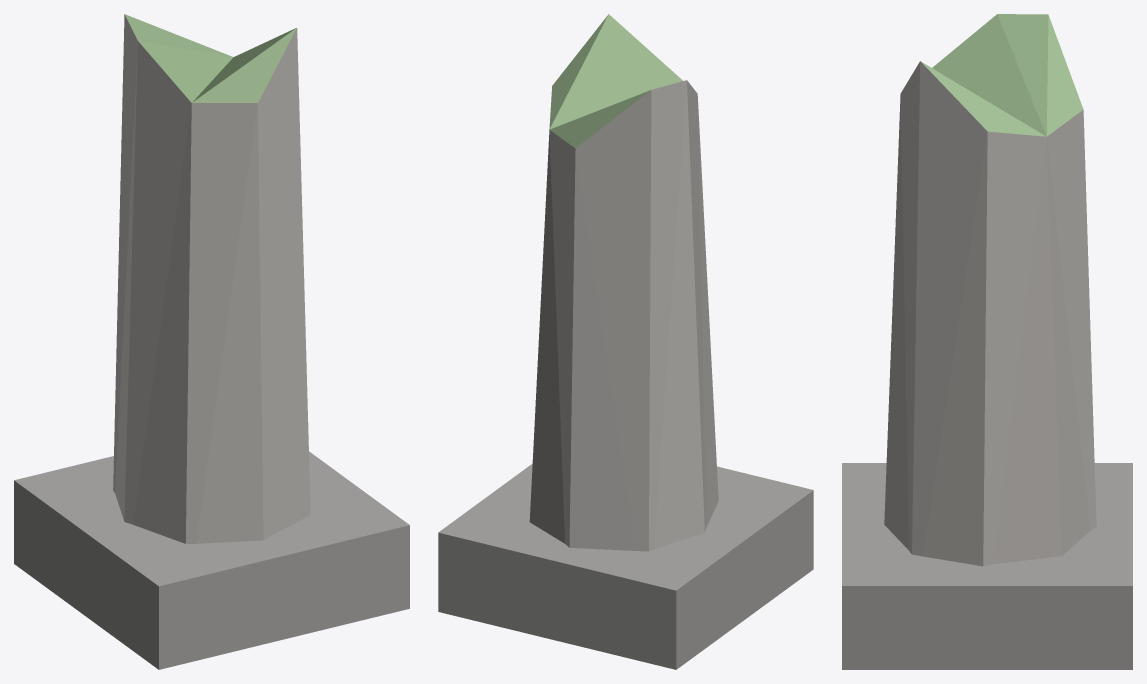
The model's file is RUIN-pillar-02.glb.
3 renders of one model, left to right at view 1: azimuth 30°, elevation 25°; view 2: azimuth 150°, elevation 25°; view 3: azimuth 270°, elevation 25°, orthographic. The views are drawn at different scales.
Parts seen in each view (by area): view 1: RUIN-pillar-02; view 2: RUIN-pillar-02; view 3: RUIN-pillar-02.
Part boxes in pixels (x1,y1,x2,y2): RUIN-pillar-02: (14,14,409,669); RUIN-pillar-02: (438,14,813,669); RUIN-pillar-02: (842,14,1132,669).
Bounding box in the file's own units: 1.1 × 2.39 × 1.1.
